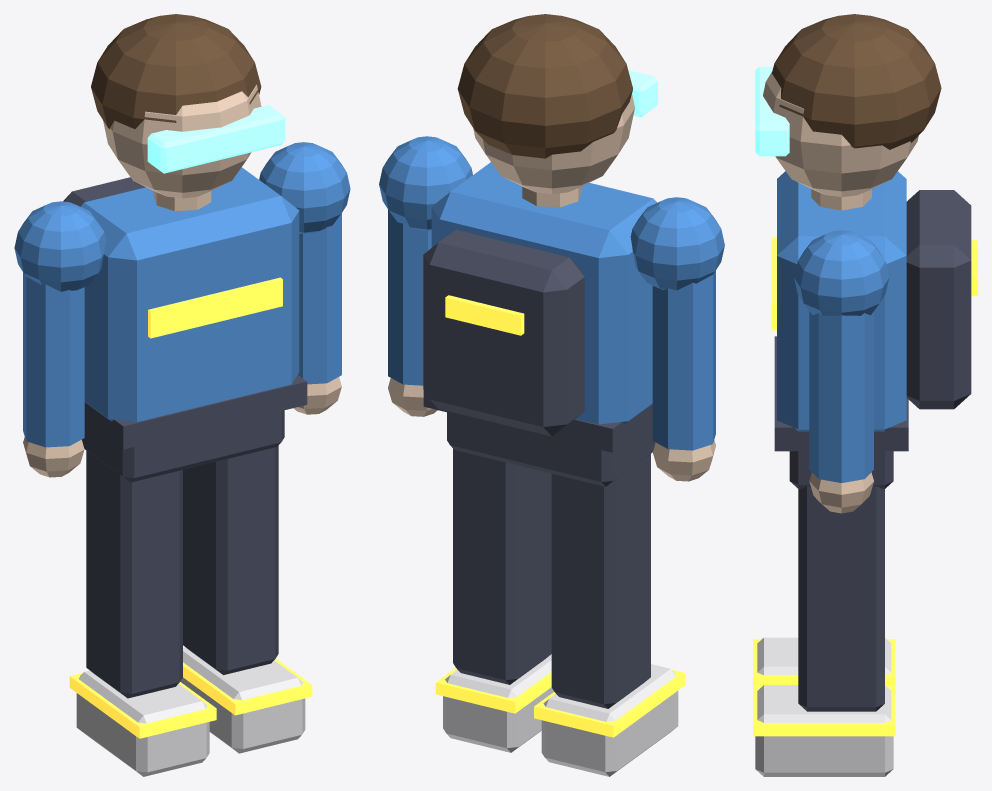
The model's file is Remodel_Player.fbx.
3 renders of one model, left to right at view 1: azimuth 30°, elevation 25°; view 2: azimuth 150°, elevation 25°; view 3: azimuth 270°, elevation 25°, orthographic. The views are drawn at different scales.
Parts seen in each view (by area): view 1: Torso, Leg, Leg.001, Hair, Arm, Shoe, Head, Hips, Arm.001, Shoe.001, Shoulder, Belt (+9 smaller); view 2: Backpack, Torso, Leg, Leg.001, Hair, Arm, Shoe, Hips, Shoulder, Arm.001, Shoulder.001, Shoe.001 (+9 smaller); view 3: Leg.001, Torso, Hair, Backpack, Arm.001, Shoe.001, Head, Shoulder.001, ShoeStripe.001, Belt, Visor, Shoe (+5 smaller).
Boxes of the visible parts, box(x1,y1,x2,y2) form: Torso: box(80, 167, 299, 421); Leg: box(86, 450, 182, 698); Leg.001: box(183, 446, 278, 674); Hair: box(91, 14, 261, 129); Arm: box(23, 272, 84, 447); Shoe: box(76, 670, 209, 776); Head: box(103, 84, 261, 198); Hips: box(82, 410, 284, 482); Arm.001: box(298, 213, 341, 384); Shoe.001: box(180, 647, 305, 753); Shoulder: box(14, 201, 105, 291); Belt: box(84, 375, 307, 449); Backpack: box(423, 230, 584, 436); Torso: box(431, 162, 656, 424); Leg: box(551, 453, 650, 708); Leg.001: box(453, 449, 551, 684); Hair: box(457, 14, 632, 158); Arm: box(652, 271, 715, 450); Shoe: box(541, 664, 678, 776); Hips: box(447, 412, 655, 486); Shoulder: box(630, 197, 724, 290); Arm.001: box(388, 210, 431, 385); Shoulder.001: box(379, 136, 472, 230); Shoe.001: box(443, 654, 553, 752); Leg.001: box(798, 486, 884, 711); Torso: box(777, 171, 906, 431); Hair: box(772, 14, 941, 149); Backpack: box(906, 190, 971, 409); Arm.001: box(809, 311, 873, 482); Shoe.001: box(755, 685, 893, 776); Head: box(763, 72, 918, 196); Shoulder.001: box(794, 230, 889, 315); ShoeStripe.001: box(753, 686, 895, 736); Belt: box(774, 336, 908, 451); Visor: box(755, 66, 789, 156); Shoe: box(757, 637, 891, 675).
Bounding box in the file's own units: 0.88 × 1.83 × 0.52.
